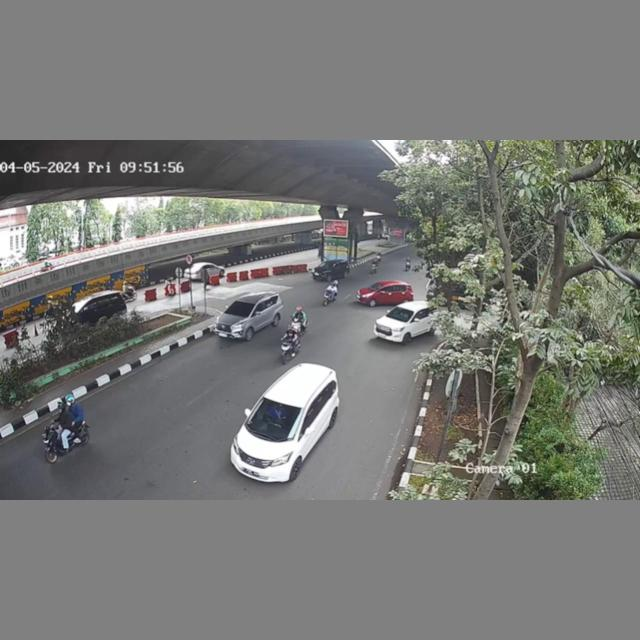windshield: (248, 397, 301, 442), (222, 299, 257, 322)
